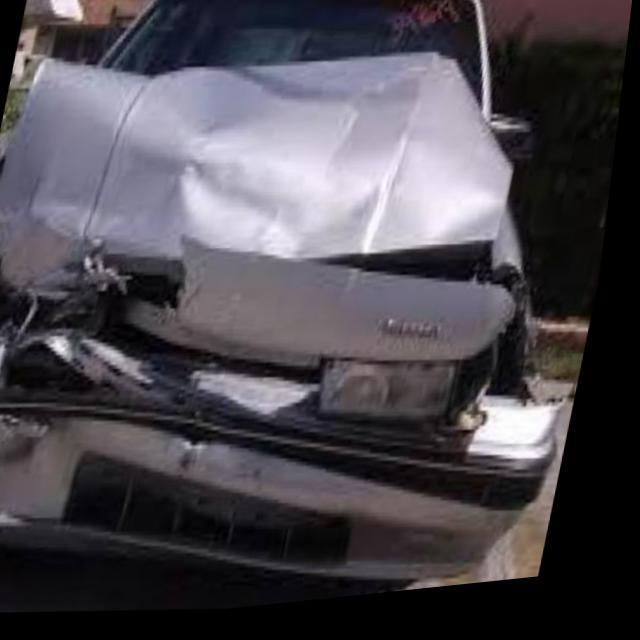crash: (0, 55, 564, 593)
